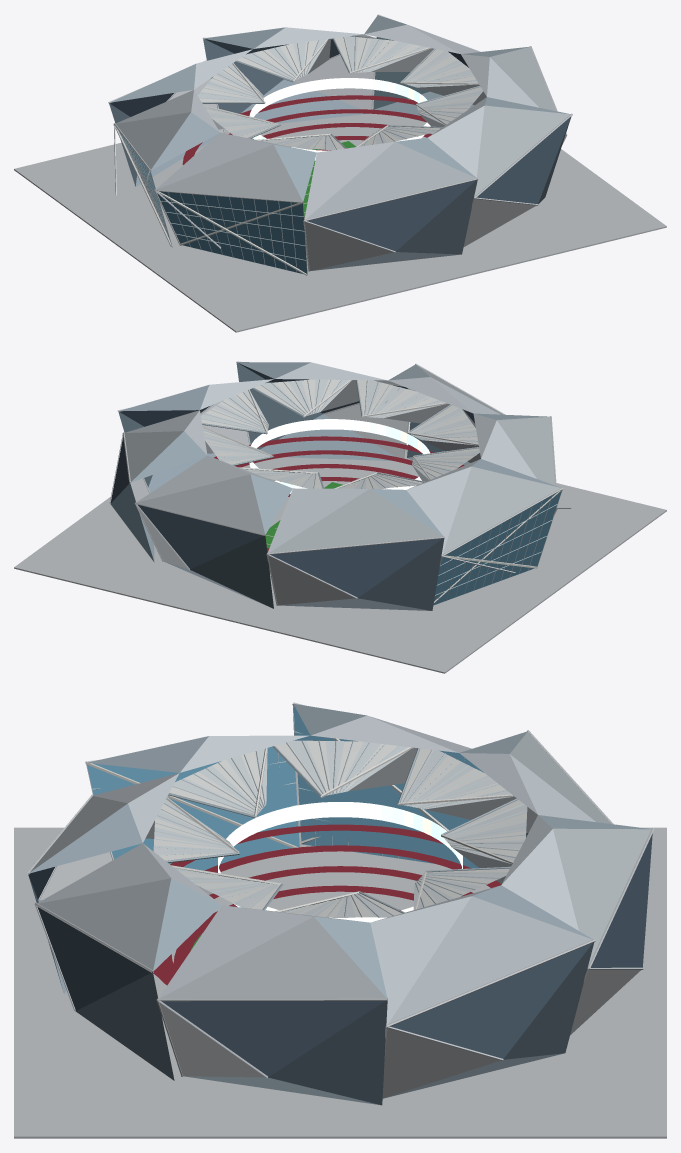
Rendered from benz.glb.
The picture shows the model from 3 angles, top to bottom: view 1: azimuth 30°, elevation 25°; view 2: azimuth 150°, elevation 25°; view 3: azimuth 270°, elevation 25°; orthographic projection. The views are drawn at different scales.
Visible parts, largest first — view 1: benz-shell, benz-halo; view 2: benz-shell, benz-halo; view 3: benz-shell, benz-halo.
Boxes of the visible parts, left/top/right/bottom form: benz-shell: left=14, top=14, right=666, bottom=332; benz-halo: left=249, top=78, right=430, bottom=160; benz-shell: left=14, top=361, right=666, bottom=673; benz-halo: left=249, top=419, right=429, bottom=493; benz-shell: left=14, top=702, right=666, bottom=1138; benz-halo: left=218, top=802, right=462, bottom=922.
Size of the model in its own units: 28 by 7.1 by 25.
